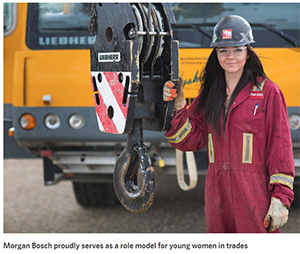crane-operator: (200, 10, 267, 89)
